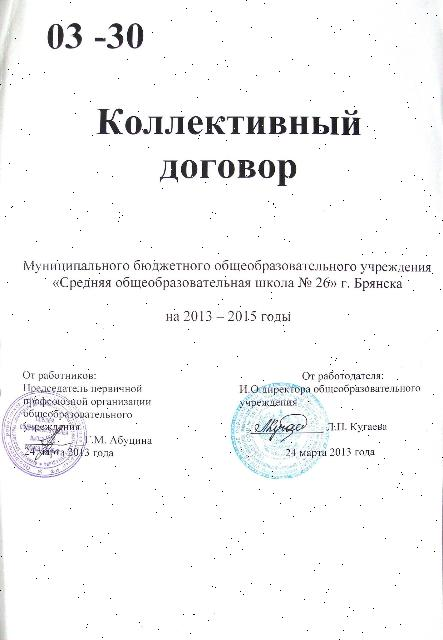stamp: (232, 385, 326, 481), (0, 386, 88, 478)
